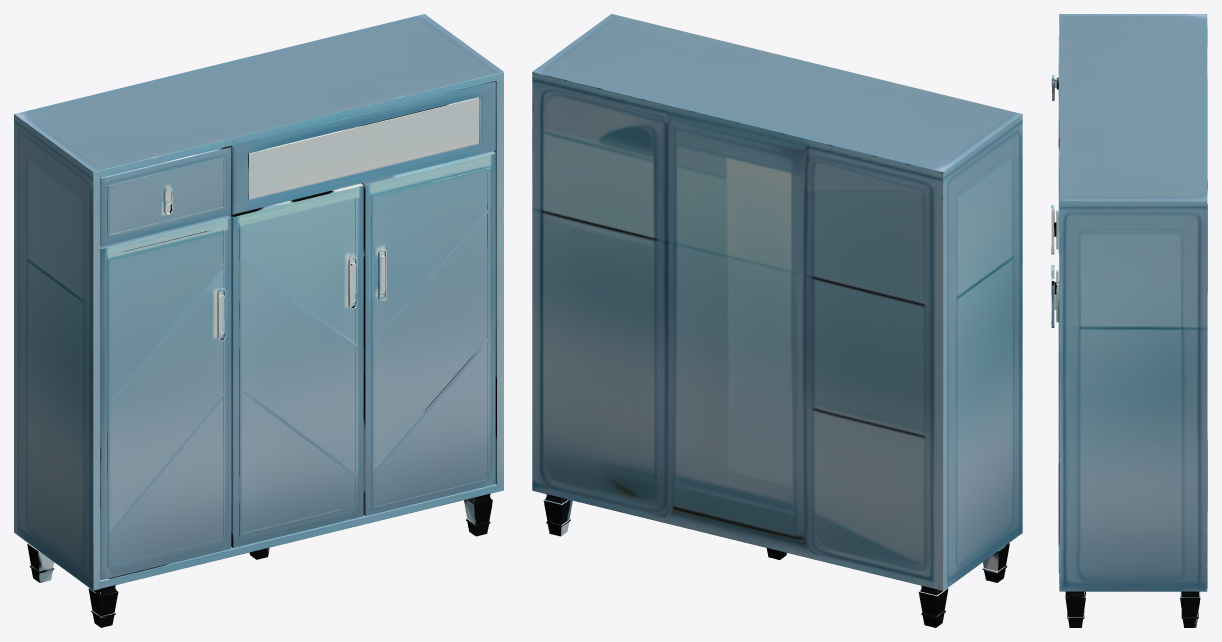
File: edited_mesh.glb
The picture shows the model from 3 angles, left to right: view 1: azimuth 30°, elevation 25°; view 2: azimuth 150°, elevation 25°; view 3: azimuth 270°, elevation 25°; orthographic projection. The views are drawn at different scales.
Parts seen in each view (by area): view 1: solid_001_wire; view 2: solid_001_wire; view 3: solid_001_wire.
Boxes of the visible parts, bbox=[...] form: solid_001_wire: bbox=[14, 14, 503, 627]; solid_001_wire: bbox=[532, 14, 1022, 627]; solid_001_wire: bbox=[1051, 14, 1207, 627].
Bounding box in the file's own units: 1.27 × 1.37 × 0.4471.
Materials: 1 (1 with a texture image).
